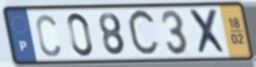0: (66, 12, 94, 58)
3: (160, 8, 191, 57)
8: (98, 11, 127, 57)
C: (126, 7, 162, 60), (34, 12, 63, 58)
X: (186, 8, 230, 57)
